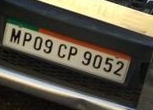0: (33, 35, 44, 50), (92, 54, 103, 69)
2: (114, 61, 124, 77)
5: (103, 57, 114, 73)
9: (82, 50, 93, 67), (44, 39, 54, 54)
C: (57, 43, 67, 59)
M: (9, 27, 22, 45)
P: (67, 45, 78, 61), (22, 31, 32, 47)
